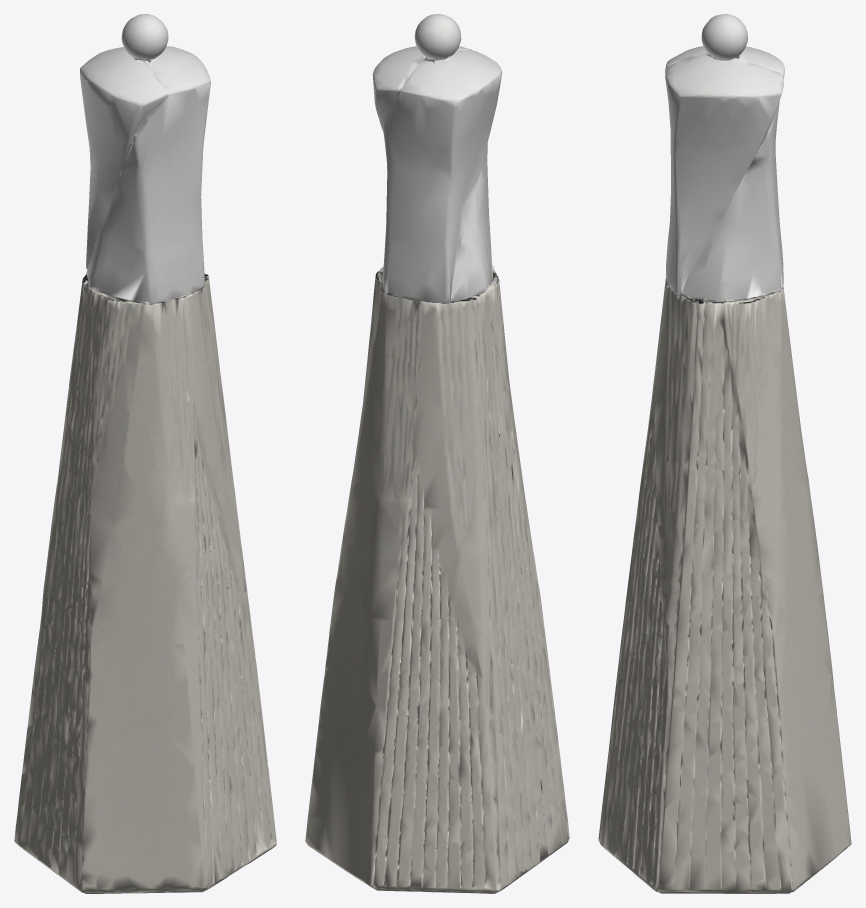
File: queen-white-hd.glb
3 renders of one model, left to right at view 1: azimuth 30°, elevation 25°; view 2: azimuth 150°, elevation 25°; view 3: azimuth 270°, elevation 25°, orthographic.
Bounding box in the file's own units: 0.4102 × 1.65 × 0.454.
1 material, 1 textured.
